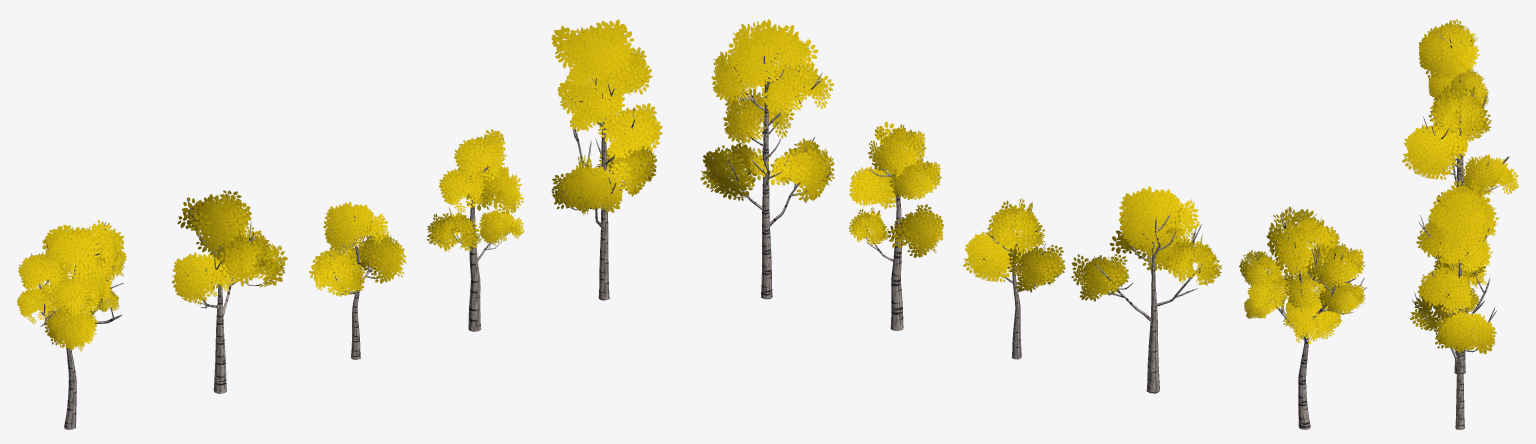
The model's file is tree-birch-1.glb.
3 views of the same model, side by side, from view 1: azimuth 30°, elevation 25°; view 2: azimuth 150°, elevation 25°; view 3: azimuth 270°, elevation 25° (orthographic). The views are drawn at different scales.
Parts seen in each view (by area): view 1: BirchTree_3; view 2: BirchTree_3; view 3: BirchTree_3.
Boxes of the visible parts, <box> form: BirchTree_3: <box>17,19,662,429</box>; BirchTree_3: <box>700,19,1366,429</box>; BirchTree_3: <box>1402,19,1518,429</box>.
Size of the model in its own units: 18.56 by 7.57 by 3.51.
Materials: 2 (2 with a texture image).
